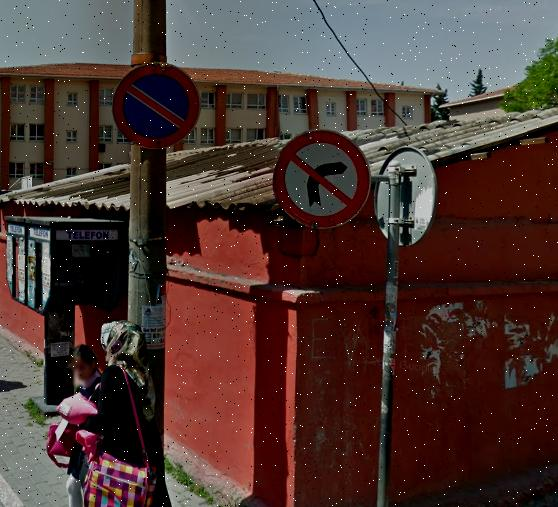nopark: (115, 65, 199, 146)
rightturnsareforbidden: (273, 130, 371, 223)
